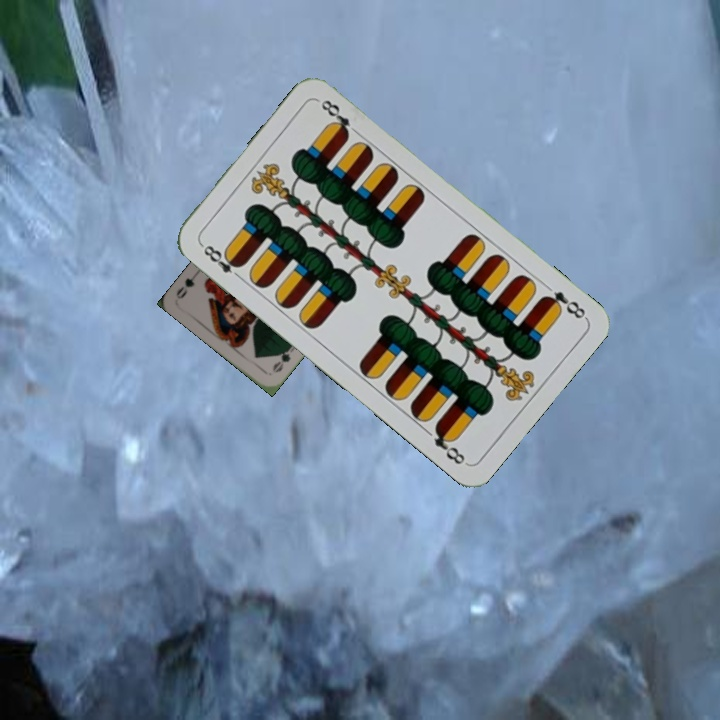E8: (196, 239, 246, 283), (538, 287, 589, 322)
GO: (268, 341, 298, 375)
